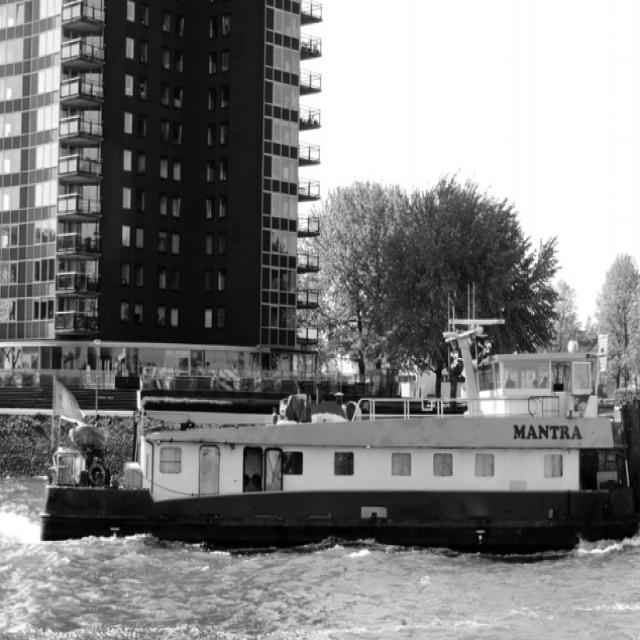tugboat: (35, 313, 640, 565)
